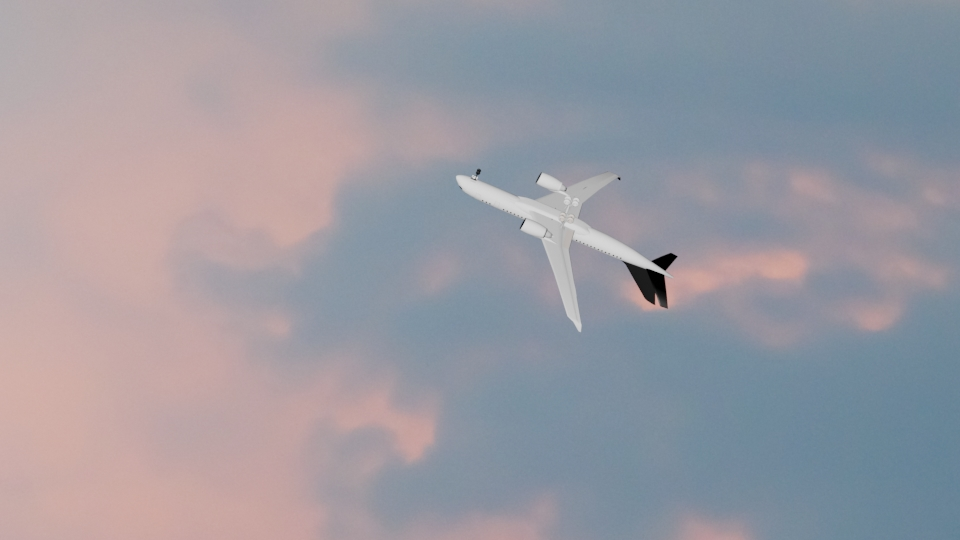plane: (452, 163, 678, 335)
